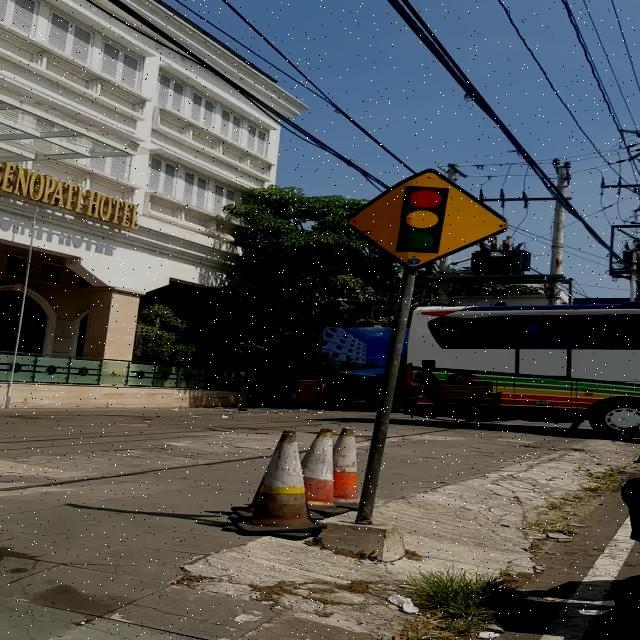Lampu Lalu Lintas: (347, 168, 506, 270)
